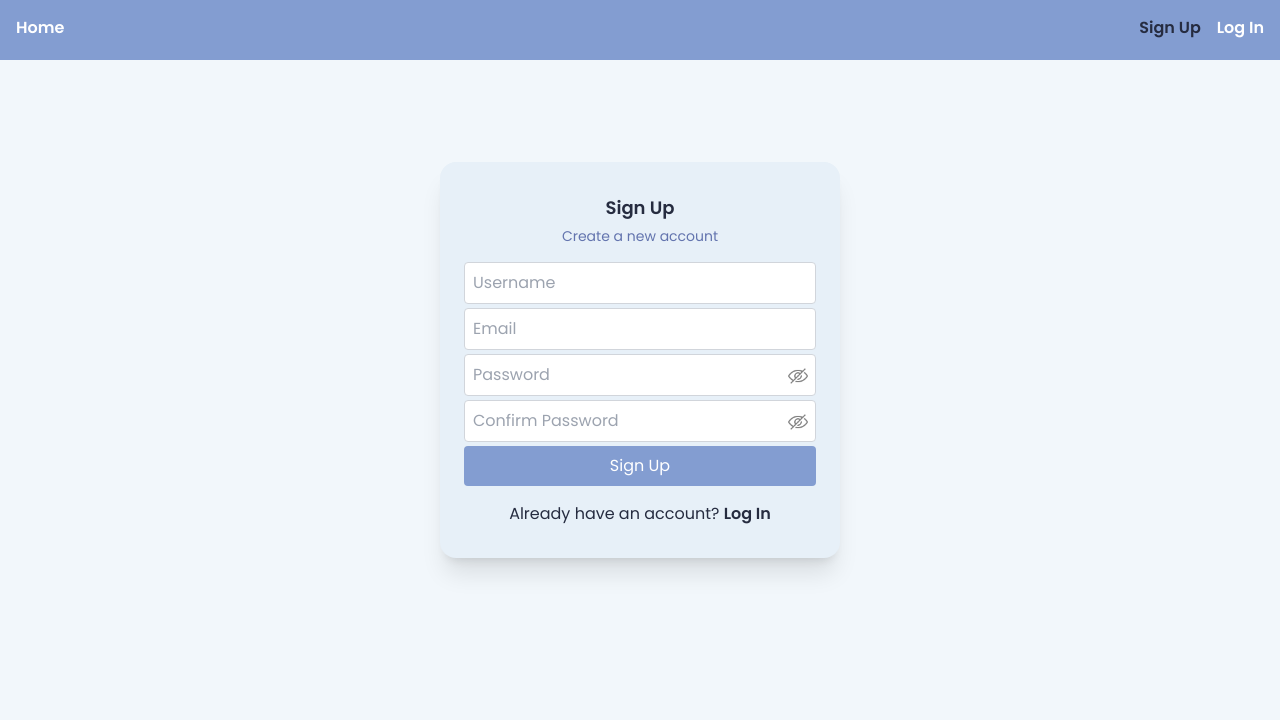
Test: Sign Up Page › shows validation errors if fields are empty on submit
Click the submit button.
click(640, 466)  # box [464,446,816,486]
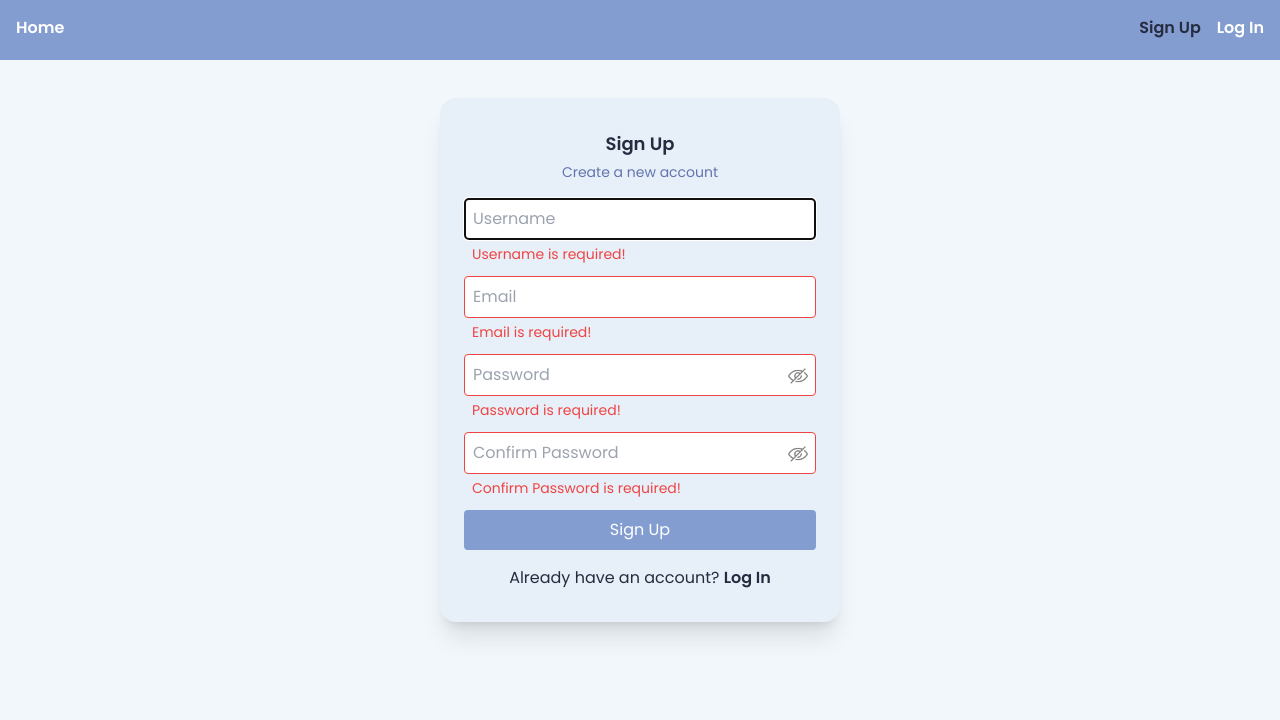
Check: the text "Username is required!" is shown, box [472,244,626,264]
Check: the text "Email is required!" is shown, box [472,322,592,342]
Check: the text "Password is required!" is shown, box [472,400,621,420]
